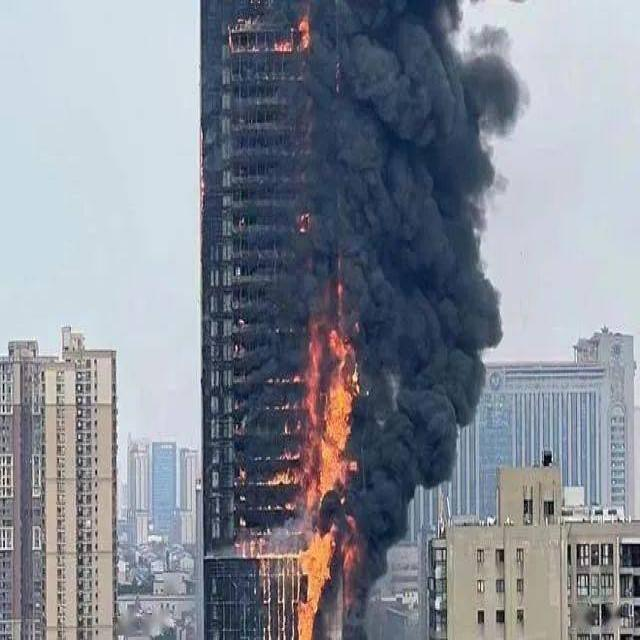Fire: (293, 328, 355, 640)
Smoke: (316, 0, 518, 300), (356, 298, 504, 584)
